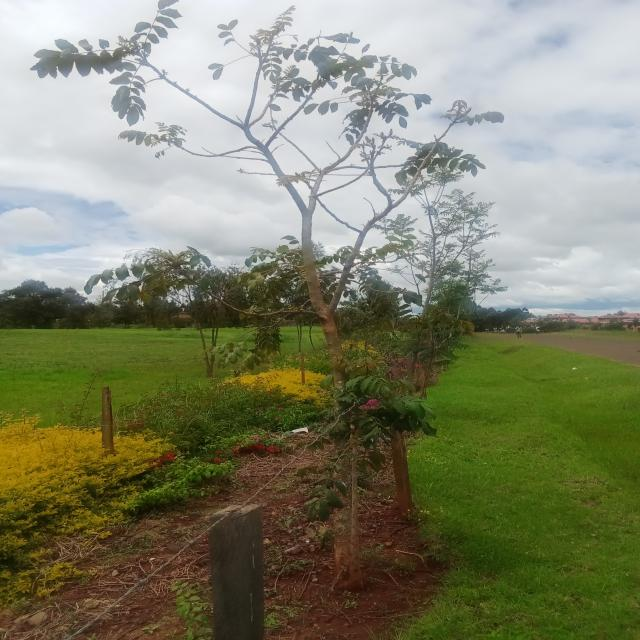Polyscias Kikuyensis: (31, 0, 508, 585)
